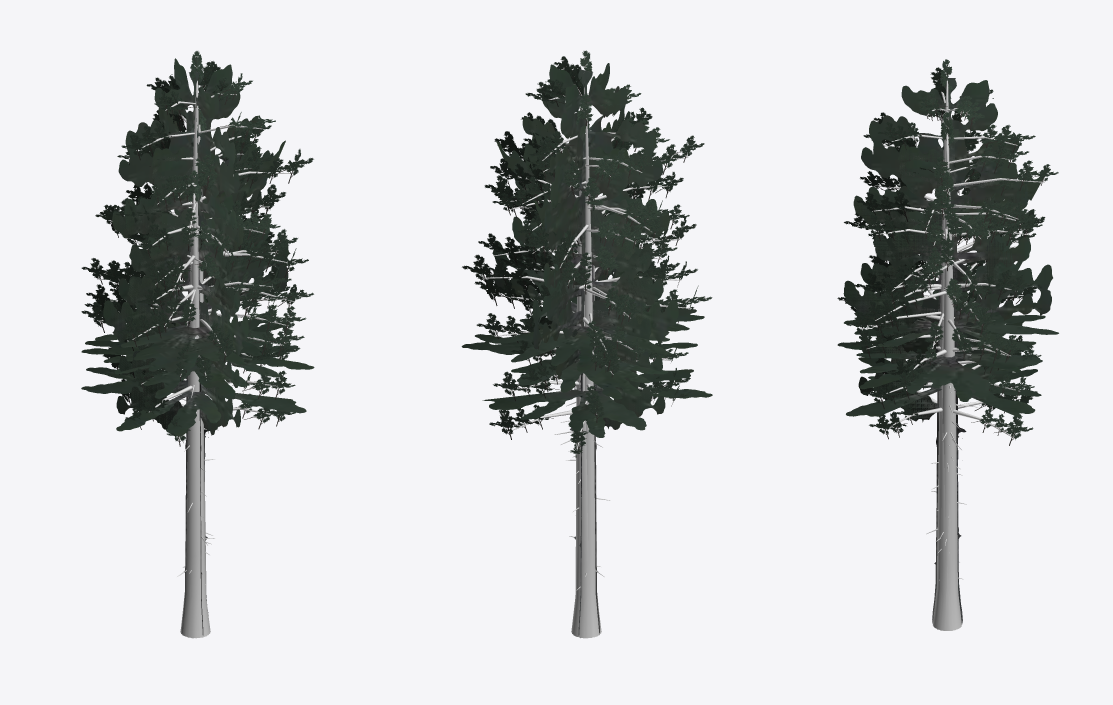
Rendered from tree-blackpine.glb.
The picture shows the model from 3 angles, left to right: view 1: azimuth 30°, elevation 25°; view 2: azimuth 150°, elevation 25°; view 3: azimuth 270°, elevation 25°; orthographic projection. The views are drawn at different scales.
Visible parts, largest first — view 1: impostor-2, impostor-1, impostor-0, lod0-leaves-2, lod0-leaves-1, lod0-leaves-0, lod0-wood-2, lod0-wood-1, lod0-wood-0; view 2: impostor-0, impostor-2, lod0-leaves-2, impostor-1, lod0-leaves-0, lod0-leaves-1, lod0-wood-2, lod0-wood-0, lod0-wood-1; view 3: impostor-0, impostor-2, lod0-leaves-2, impostor-1, lod0-leaves-1, lod0-leaves-0, lod0-wood-0, lod0-wood-2, lod0-wood-1.
Boxes of the visible parts, x1,y1,x2,y2 form: impostor-2: (95, 58, 285, 635); impostor-1: (81, 168, 306, 625); impostor-0: (81, 121, 314, 633); lod0-leaves-2: (95, 51, 313, 315); lod0-leaves-1: (81, 170, 306, 446); lod0-leaves-0: (81, 106, 313, 379); lod0-wood-2: (110, 80, 293, 638); lod0-wood-1: (100, 193, 288, 638); lod0-wood-0: (98, 124, 294, 637); impostor-0: (461, 123, 697, 637); impostor-2: (492, 63, 704, 632); lod0-leaves-2: (478, 50, 704, 310); impostor-1: (482, 176, 712, 622); lod0-leaves-0: (462, 106, 697, 377); lod0-leaves-1: (476, 187, 712, 457); lod0-wood-2: (494, 84, 688, 637); lod0-wood-0: (482, 153, 681, 638); lod0-wood-1: (494, 198, 691, 638); impostor-0: (837, 129, 1052, 623); impostor-2: (844, 78, 1058, 622); lod0-leaves-2: (844, 59, 1058, 319); impostor-1: (843, 178, 1041, 618); lod0-leaves-1: (846, 190, 1041, 445); lod0-leaves-0: (837, 112, 1042, 376); lod0-wood-0: (872, 133, 1028, 630); lod0-wood-2: (866, 80, 1044, 630); lod0-wood-1: (865, 226, 1023, 630).
Size of what is drawn, in the model's own units: 13.35 by 27.8 by 13.35.
5 materials, 4 textured.
